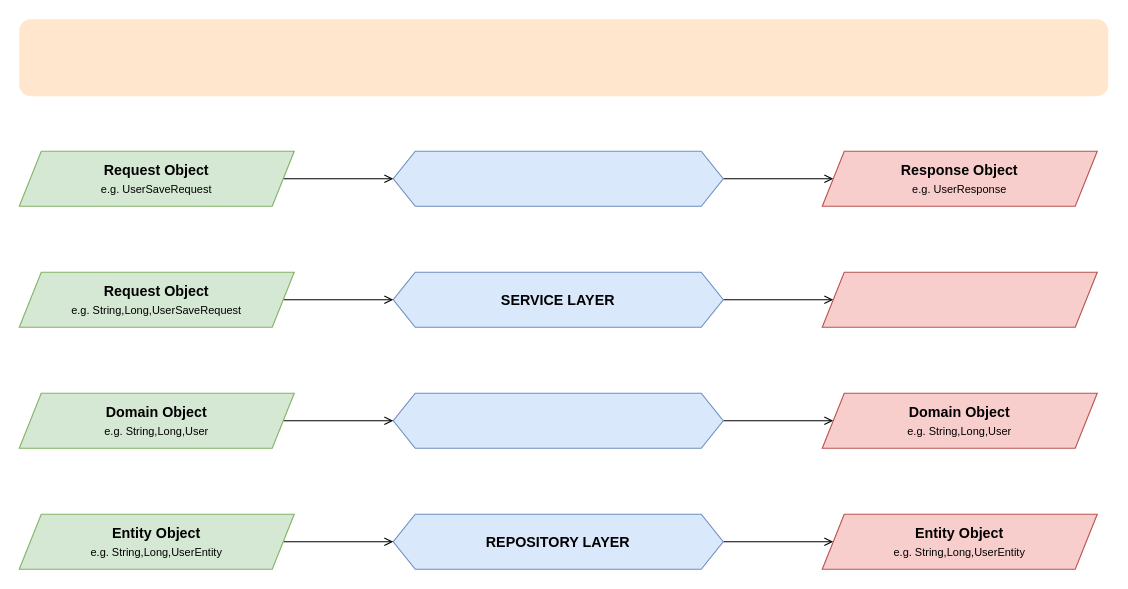
Image size: 1128x589. Some labels were removed from this diagram. The shapes that lost their labels are listed below. From the top down, each one's centre as x and y in pixels, then its label:
At point 563,57: "HexaLayered Architecture".
At point 557,178: "CONTROLLER LAYER".
At point 959,299: "Domain Object e.g. String,Long,Ticket".
At point 557,420: "PORT/ADAPTER LAYER".
